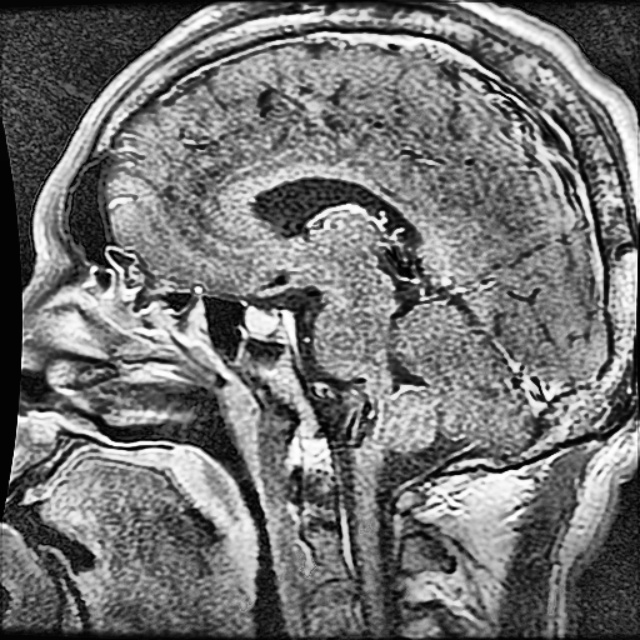Pituitary: (245, 308, 277, 330)
